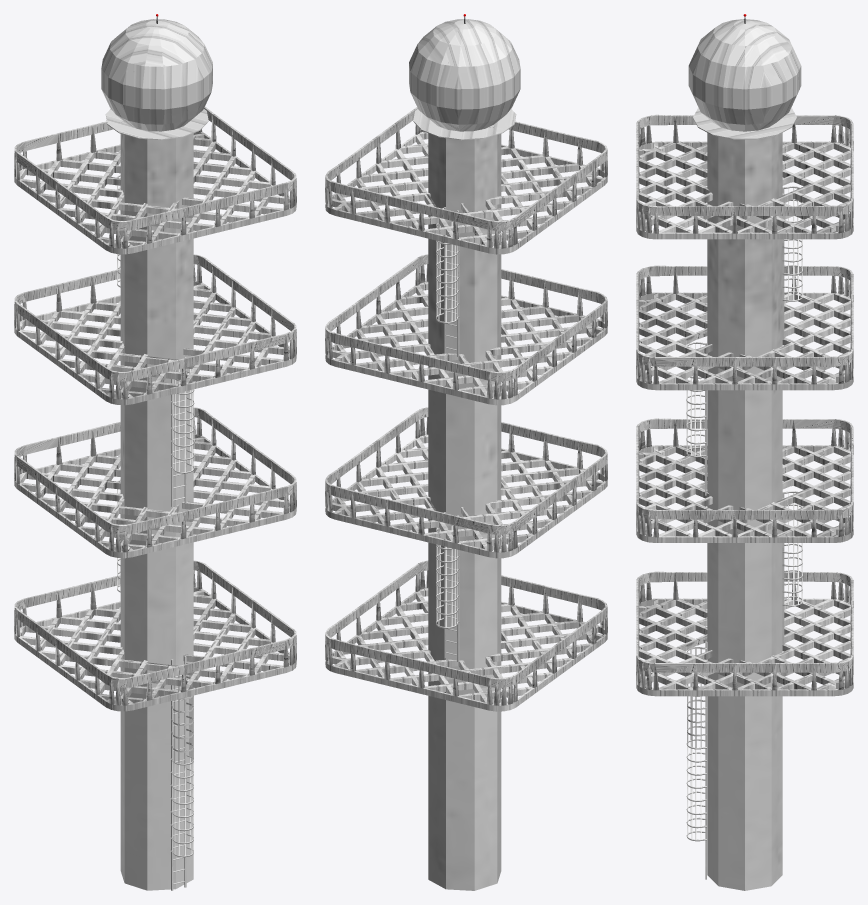
The model's file is RadioTower.glb.
3 views of the same model, side by side, from view 1: azimuth 30°, elevation 25°; view 2: azimuth 150°, elevation 25°; view 3: azimuth 270°, elevation 25° (orthographic).
Parts seen in each view (by area): view 1: Base, PlatformFour, PlatformTwo, PlatformOne, PlatformThree, Ball, Railing.003, Railing.002, Railing.001, Railing.004, RungOne, LadderOne (+2 smaller); view 2: Base, PlatformOne, PlatformThree, Ball, PlatformFour, PlatformTwo, Railing.002, Railing.003, Railing.001, Railing.004, RungTwo, RungFour (+2 smaller); view 3: Base, PlatformFour, PlatformThree, PlatformOne, PlatformTwo, Ball, Railing.003, Railing.001, Railing.002, Railing.004, RungOne, RungThree (+2 smaller).
Boxes of the visible parts, x1,y1,x2,y2 form: Base: (120, 133, 193, 890); PlatformFour: (14, 131, 296, 254); PlatformTwo: (14, 434, 296, 558); PlatformOne: (14, 587, 296, 711); PlatformThree: (14, 281, 296, 405); Ball: (101, 14, 212, 140); Railing.003: (14, 407, 296, 552); Railing.002: (14, 254, 296, 399); Railing.001: (14, 560, 296, 705); Railing.004: (14, 106, 296, 248); RungOne: (170, 663, 193, 857); LadderOne: (171, 656, 186, 890); Base: (428, 133, 501, 890); PlatformOne: (325, 587, 607, 711); PlatformThree: (325, 281, 607, 405); Ball: (409, 14, 520, 140); PlatformFour: (325, 131, 607, 254); PlatformTwo: (325, 434, 607, 558); Railing.002: (325, 254, 607, 399); Railing.003: (325, 407, 607, 552); Railing.001: (325, 560, 607, 705); Railing.004: (325, 107, 607, 248); RungTwo: (436, 516, 459, 628); RungFour: (436, 208, 459, 323); Base: (707, 133, 782, 890); PlatformFour: (636, 141, 853, 239); PlatformThree: (636, 292, 853, 390); PlatformOne: (636, 598, 853, 696); PlatformTwo: (636, 445, 853, 542); Ball: (688, 14, 801, 139); Railing.003: (636, 418, 853, 537); Railing.001: (636, 571, 853, 690); Railing.002: (636, 265, 853, 384); Railing.004: (636, 114, 853, 233); RungOne: (686, 647, 706, 841); RungThree: (686, 342, 706, 457).
Size of the model in its own units: 26.01 by 113 by 26.01.
Materials: 10 (8 with a texture image).
